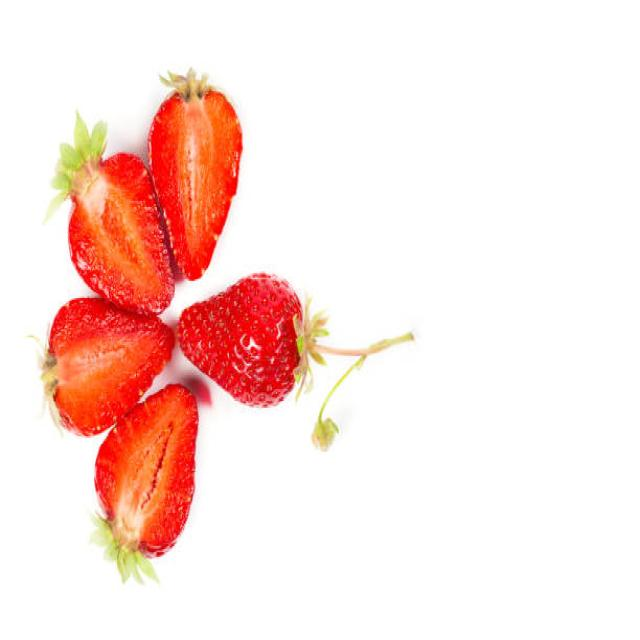Healthy Fruit: (176, 271, 303, 409)
